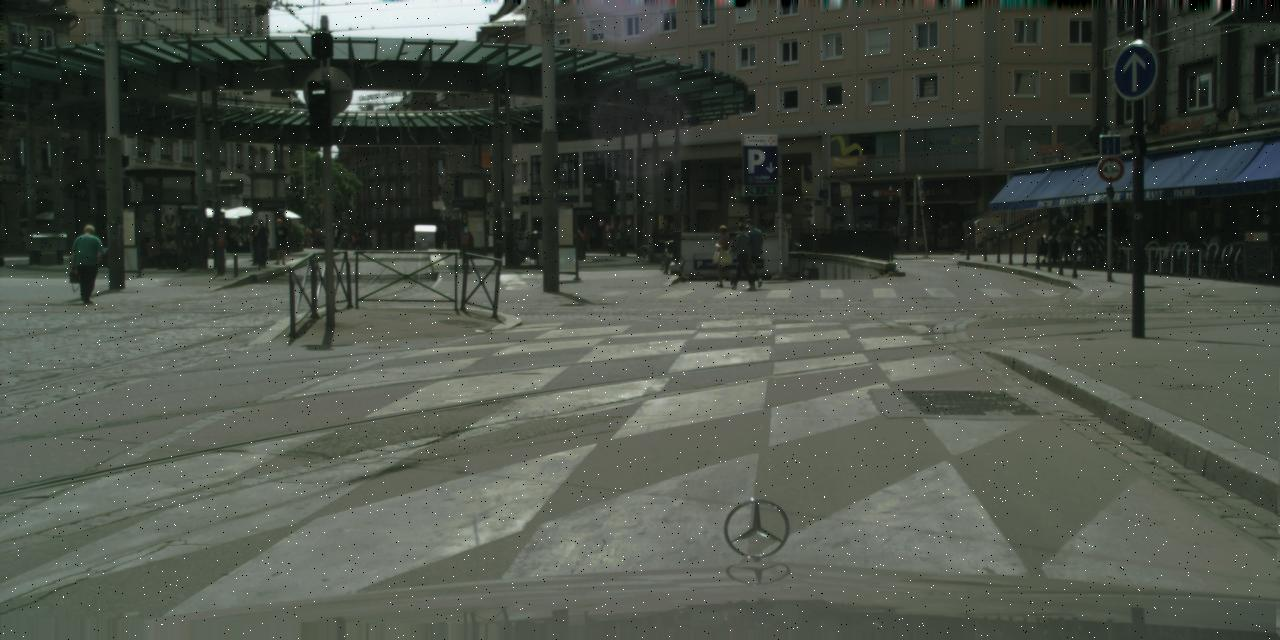ped: (70, 223, 104, 305), (727, 221, 755, 290), (738, 219, 766, 287), (712, 224, 736, 286), (251, 219, 271, 268), (270, 218, 288, 264), (247, 223, 263, 264), (244, 224, 260, 264), (581, 223, 592, 250), (587, 227, 597, 250), (312, 230, 324, 249), (331, 225, 340, 248), (352, 227, 361, 249), (340, 230, 348, 249), (304, 228, 311, 247), (348, 232, 354, 250)
